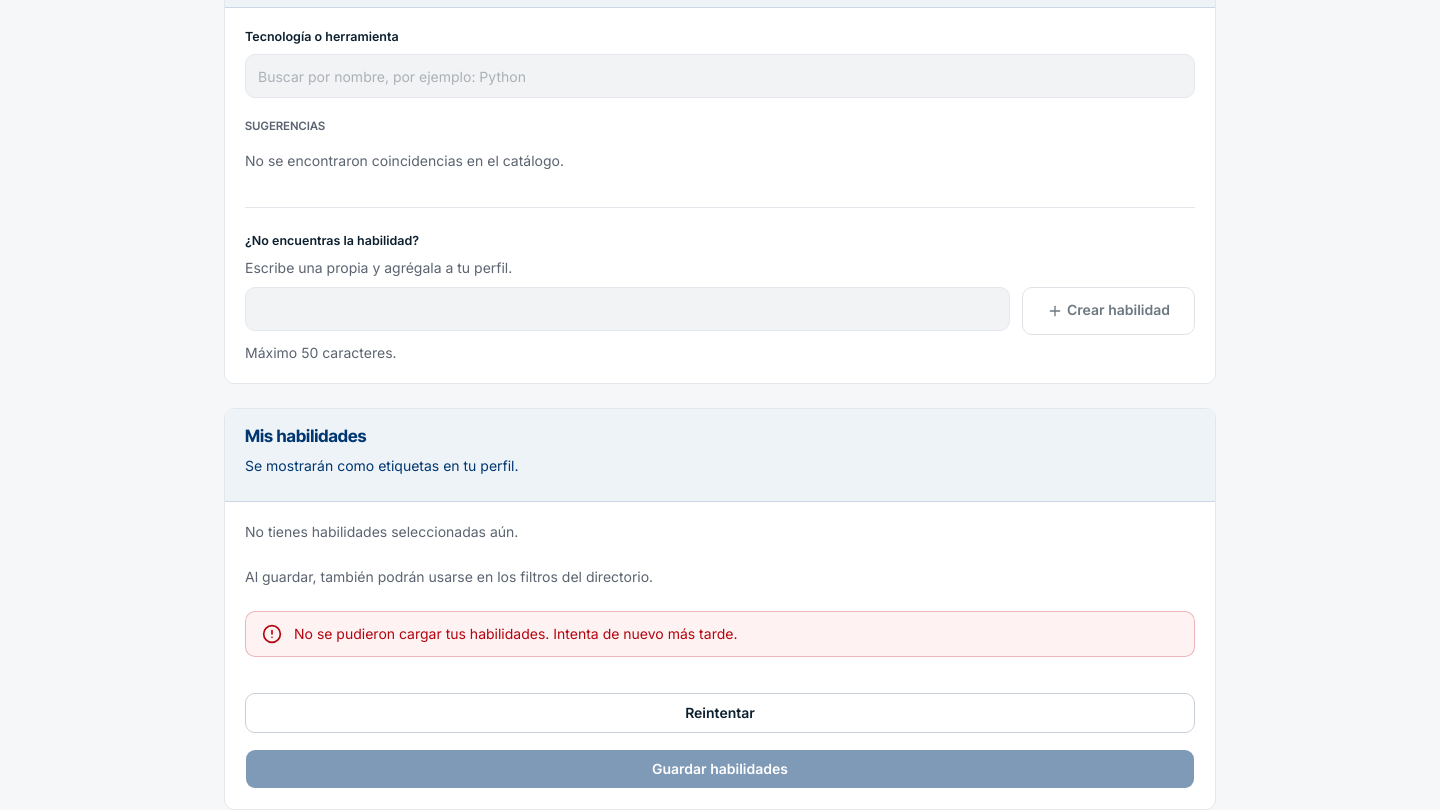
Test: SkillsView › disables save button on load error and allows retry
(page scrolled)
Expected: the text "No se pudieron cargar tus habilidades. Intenta de nuevo más tarde." is shown, [294,624,737,644]
Expected: the button "Guardar habilidades" is disabled, [245,749,1195,789]
Click the button "Reintentar": [720, 713] box [245,693,1195,733]
(page scrolled)
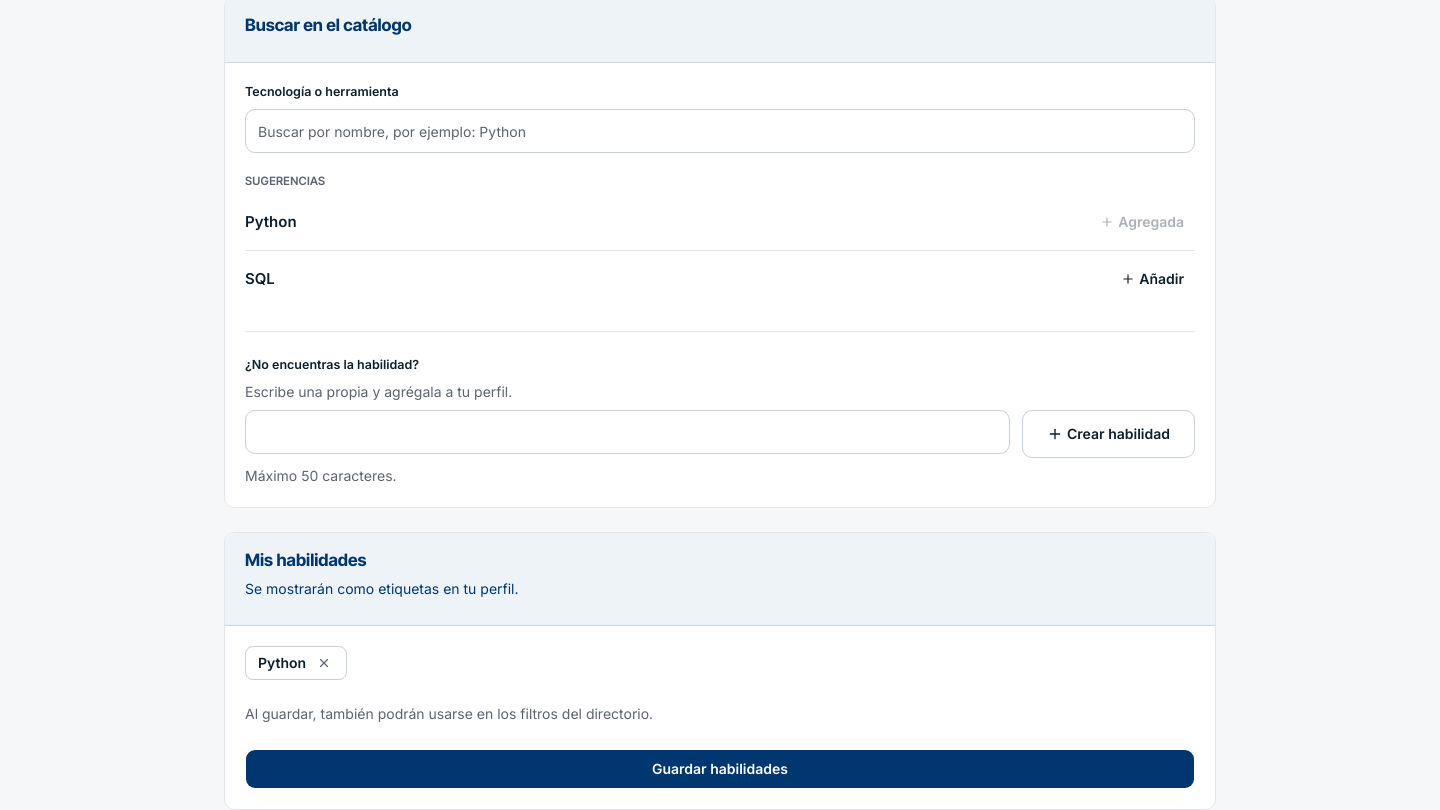
Expected: the button named "Quitar Python" is shown, [314,653,334,673]
Expected: the button "Guardar habilidades" is enabled, [245,749,1195,789]
